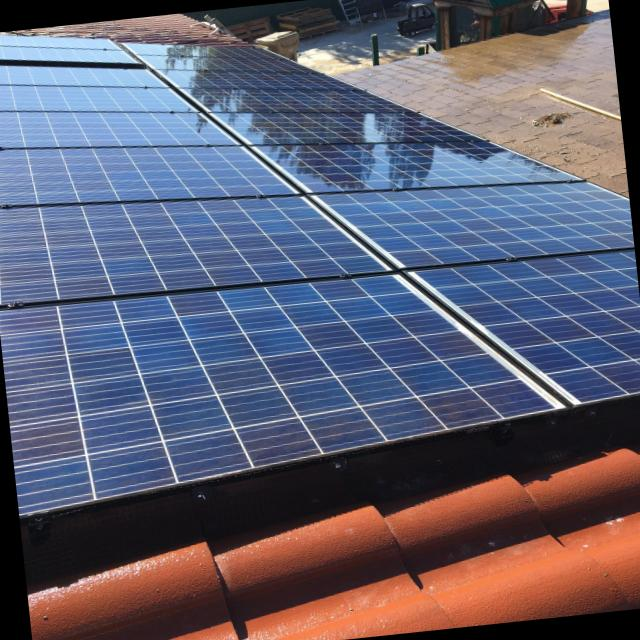no faulty: (0, 43, 640, 509)
